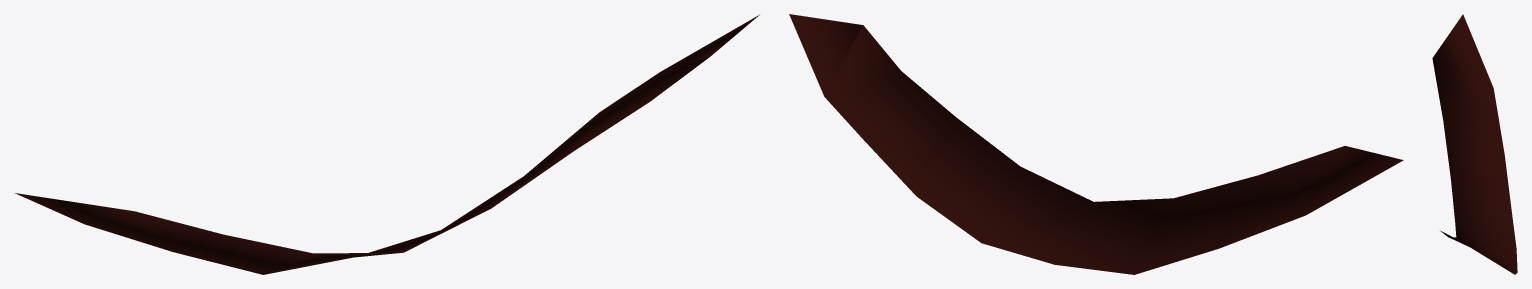
Rendered from Mouth1.fbx.
3 renders of one model, left to right at view 1: azimuth 30°, elevation 25°; view 2: azimuth 150°, elevation 25°; view 3: azimuth 270°, elevation 25°, orthographic. The views are drawn at different scales.
Visible parts, largest first — view 1: Mouth; view 2: Mouth; view 3: Mouth.
Boxes of the visible parts, left/top/right/bottom form: Mouth: left=15, top=14, right=759, bottom=274; Mouth: left=789, top=14, right=1403, bottom=274; Mouth: left=1432, top=14, right=1517, bottom=274.
Size of the model in its own units: 46.64 by 11.28 by 7.36.
